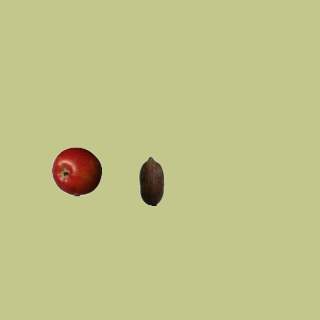Apple Braeburn: (51, 146, 101, 196)
Nut Pecan: (126, 155, 176, 205)
